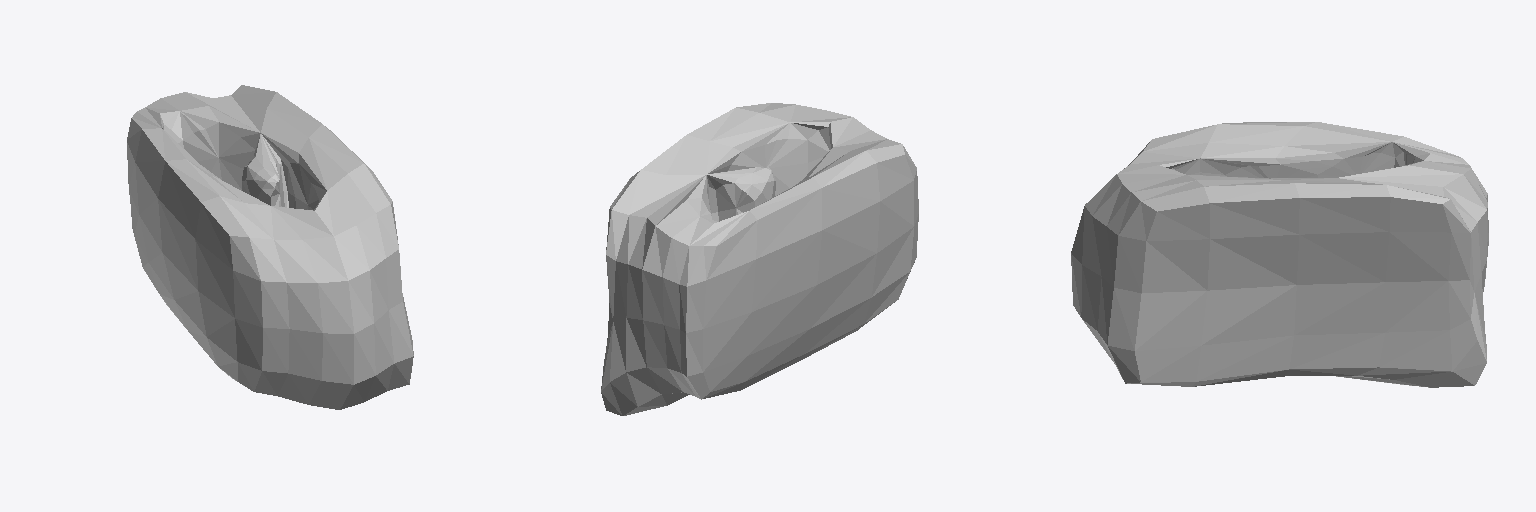
The model's file is Rune5.obj.
3 renders of one model, left to right at view 1: azimuth 30°, elevation 25°; view 2: azimuth 150°, elevation 25°; view 3: azimuth 270°, elevation 25°, orthographic.
Visible parts, largest first — view 1: Rune5; view 2: Rune5; view 3: Rune5.
Part boxes in pixels (left/top/right/bottom): Rune5: left=127, top=85, right=413, bottom=409; Rune5: left=601, top=103, right=918, bottom=415; Rune5: left=1071, top=122, right=1488, bottom=387.
Size of the model in its own units: 2.25 by 2.7 by 4.71.